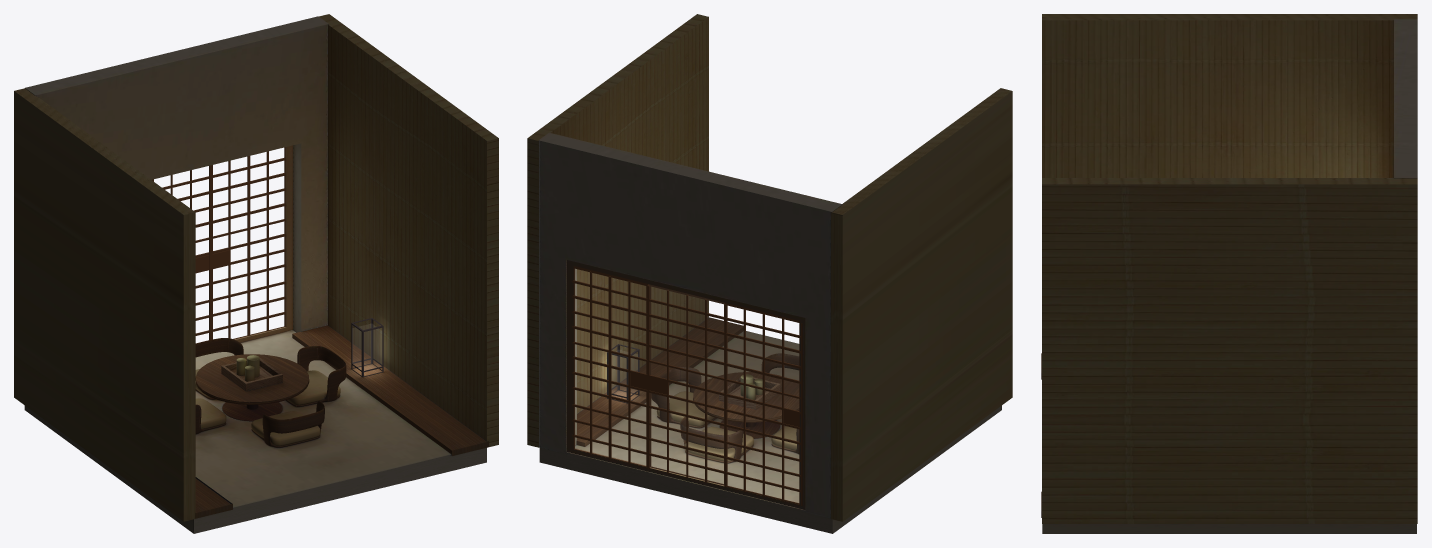
File: room-transformed.glb
3 renders of one model, left to right at view 1: azimuth 30°, elevation 25°; view 2: azimuth 150°, elevation 25°; view 3: azimuth 270°, elevation 25°, orthographic. The views are drawn at different scales.
Parts seen in each view (by area): view 1: Object_2, Object_4, Object_11, Object_10, Object_18, Object_14, Object_12, Object_17, Object_3, Object_8, Object_9, Object_5 (+2 smaller); view 2: Object_2, Object_11, Object_4, Object_14, Object_10, Object_3, Object_18, Object_12, Object_17, Object_7, Object_8, Object_5 (+1 smaller); view 3: Object_4, Object_2, Object_11, Object_10.
Part boxes in pixels (x1,y1,x2,y2): Object_2: [14, 88, 195, 521]; Object_4: [319, 14, 498, 446]; Object_11: [25, 16, 328, 332]; Object_10: [24, 330, 486, 533]; Object_18: [195, 325, 488, 518]; Object_14: [152, 147, 285, 339]; Object_12: [195, 354, 309, 421]; Object_17: [195, 369, 340, 446]; Object_3: [234, 145, 292, 342]; Object_8: [286, 346, 346, 406]; Object_9: [251, 401, 324, 447]; Object_5: [221, 358, 282, 391]; Object_2: [831, 88, 1012, 521]; Object_11: [538, 132, 842, 518]; Object_4: [527, 14, 708, 447]; Object_14: [572, 266, 802, 505]; Object_10: [539, 331, 1001, 533]; Object_3: [567, 260, 805, 509]; Object_18: [576, 317, 743, 446]; Object_12: [693, 372, 799, 438]; Object_17: [656, 391, 796, 461]; Object_7: [680, 417, 753, 463]; Object_8: [651, 367, 716, 428]; Object_5: [719, 377, 780, 409]; Object_4: [1042, 178, 1417, 523]; Object_2: [1042, 14, 1417, 177]; Object_11: [1394, 19, 1417, 178]; Object_10: [1042, 524, 1416, 533].
Bounding box in the file's own units: 28.17 × 27.5 × 26.32.
16 materials, 15 textured.
